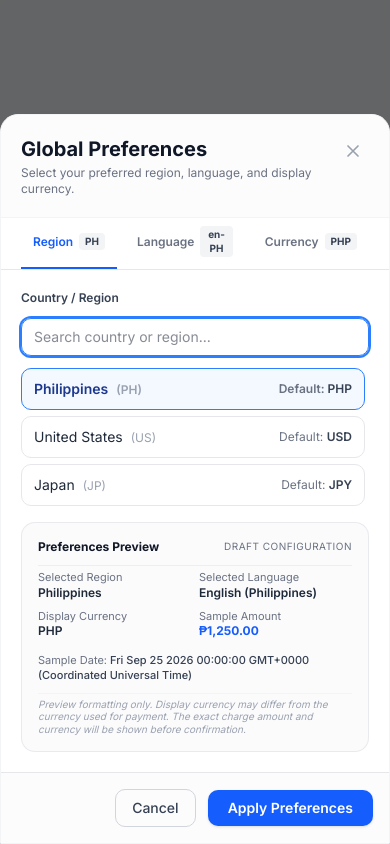
GLCC-P2A — Global Preferences UI Foundation › 4. Draft, Apply & Cancel Lifecycle › 4.4. 409 Concurrency Conflict displays message and does not overwrite server
The image size is (390, 844).
# Change country
Click the radio button labelled "Japan(JP) Default: JPY" at (54, 484), box [21,464,365,506]
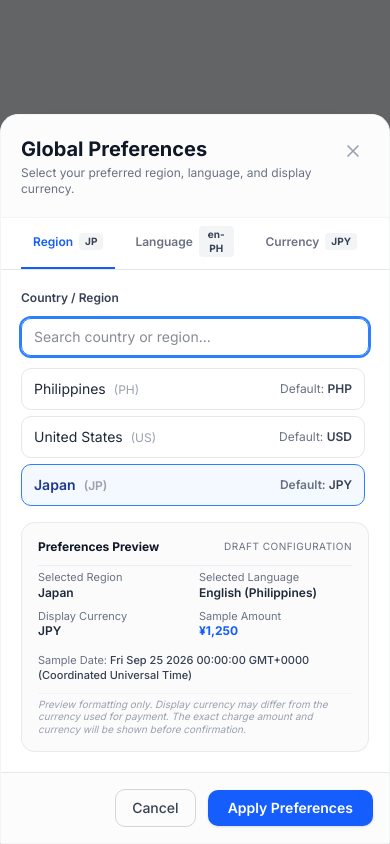
Click the button "Apply Preferences" at (290, 808), box [208,790,373,826]
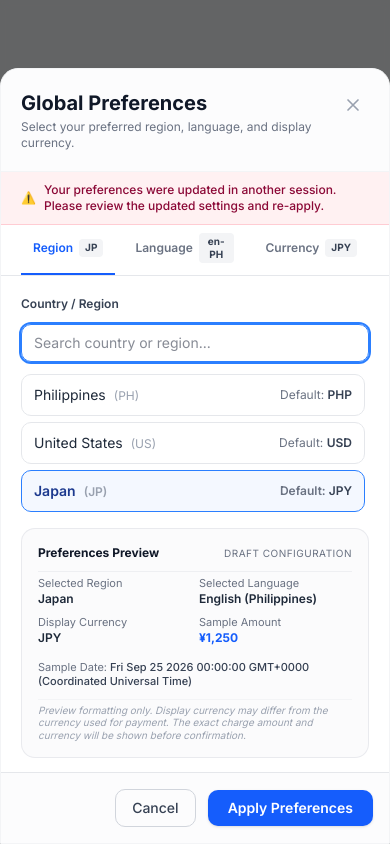
Result: the message shows "Your preferences were updated in another session. Please review the updated settings and re-apply." at [44,182,336,212]
